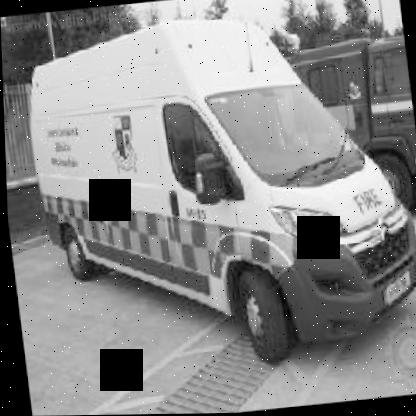emergency: (10, 0, 415, 361)
